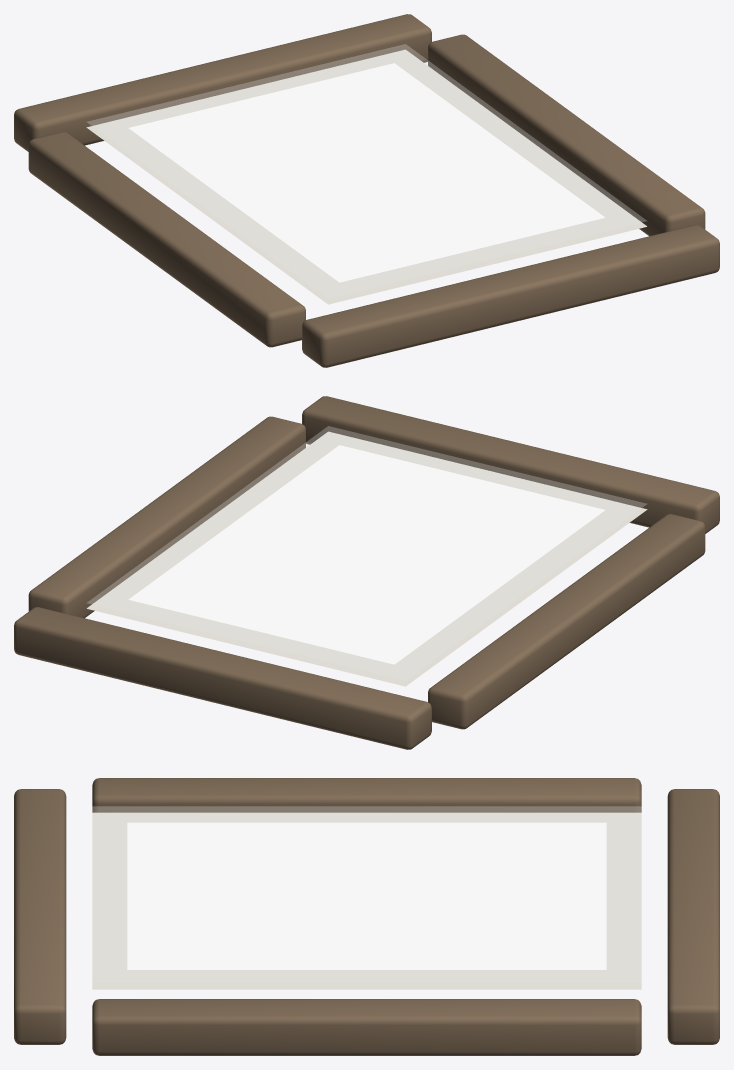
The model's file is pictureframe.glb.
3 renders of one model, top to bottom at view 1: azimuth 30°, elevation 25°; view 2: azimuth 150°, elevation 25°; view 3: azimuth 270°, elevation 25°, orthographic. The views are drawn at different scales.
Parts seen in each view (by area): view 1: FrameGlass, FrameInner, FrameBottom, FrameMat, FrameLeft, FrameTop, FrameRight; view 2: FrameGlass, FrameInner, FrameTop, FrameMat, FrameLeft, FrameBottom, FrameRight; view 3: FrameGlass, FrameInner, FrameRight, FrameMat, FrameLeft, FrameBottom, FrameTop.
Part boxes in pixels (x1,y1,x2,y2): FrameGlass: (87,44,646,298); FrameInner: (128,63,605,282); FrameBottom: (302,225,719,367); FrameMat: (86,49,646,304); FrameLeft: (28,132,305,347); FrameTop: (14,14,431,151); FrameRight: (428,34,705,236); FrameGlass: (87,426,646,680); FrameInner: (128,445,605,664); FrameTop: (14,607,431,749); FrameMat: (87,431,647,686); FrameLeft: (428,514,705,729); FrameBottom: (302,396,719,533); FrameRight: (28,416,305,618); FrameGlass: (92,806,641,982); FrameInner: (127,822,606,969); FrameRight: (92,999,641,1055); FrameMat: (92,812,641,989); FrameLeft: (92,778,641,812); FrameBottom: (14,789,66,1044); FrameTop: (667,789,719,1044).
Size of the model in its own units: 0.66 by 0.053 by 0.81.
